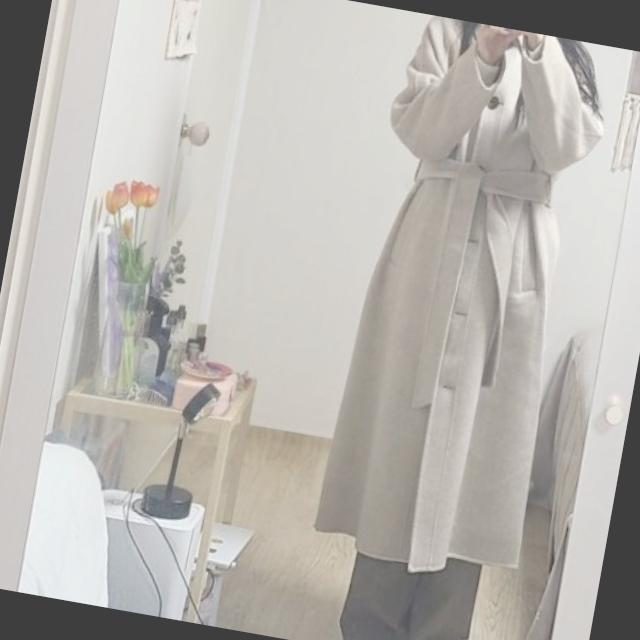coat: (312, 10, 620, 588)
slacks: (332, 535, 483, 640)
